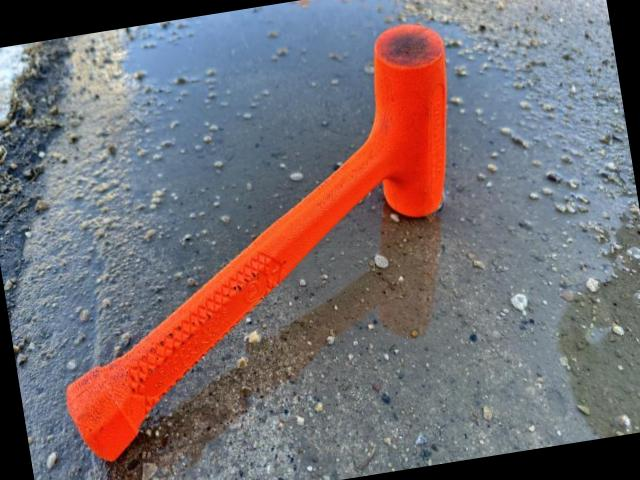hammer: (16, 17, 498, 466)
